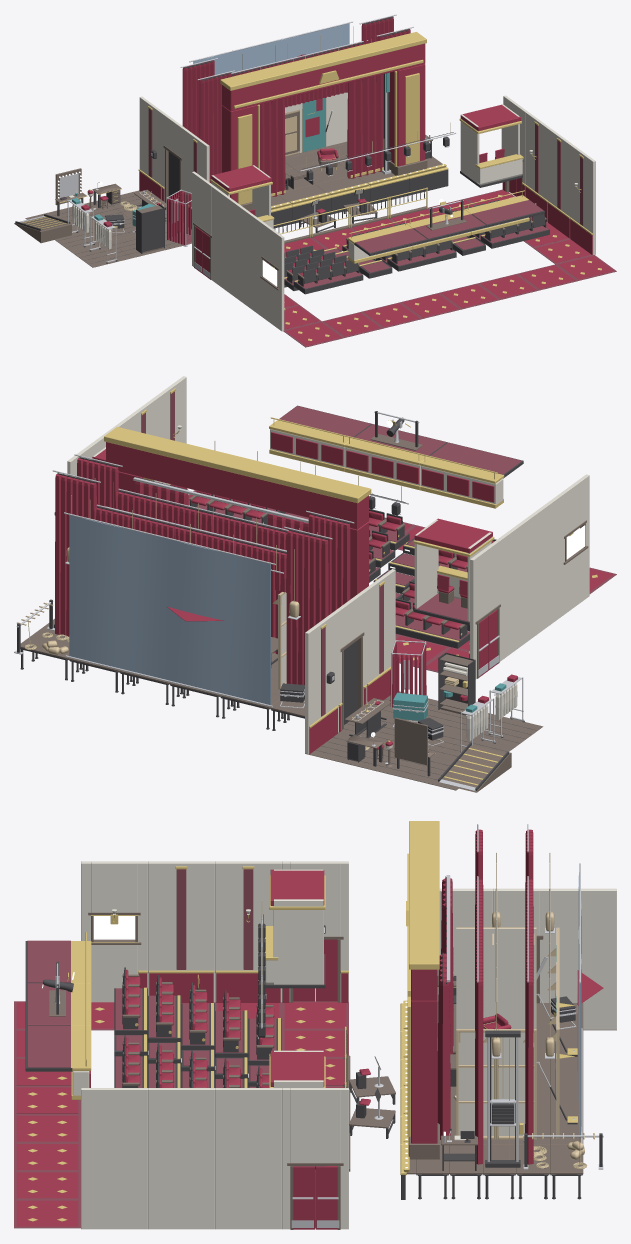
File: playhouse-stage.glb
The picture shows the model from 3 angles, top to bottom: view 1: azimuth 30°, elevation 25°; view 2: azimuth 150°, elevation 25°; view 3: azimuth 270°, elevation 25°; orthographic projection. The views are drawn at different scales.
Parts seen in each view (by area): view 1: 036-proscenium-arch-frame/0, 036-proscenium-arch-frame/1, 039-house-tabs-on-track-open/tab-right, 046-backdrop-cloth-on-batten/0, 146-box-seating-unit/2, 135-house-wall-module/0, 134-house-wall-module/0, 136-control-box-window-frame/0, 039-house-tabs-on-track-open/tab-left, 040-stage-leg-drape/0, 140-house-wall-module/0, 138-house-wall-module/0 (+50 smaller); view 2: 046-backdrop-cloth-on-batten/0, 036-proscenium-arch-frame/0, 036-proscenium-arch-frame/1, 043-stage-leg-drape/0, 135-house-wall-module/0, 134-house-wall-module/0, 042-stage-border-drape/0, 044-stage-leg-drape/0, 136-control-box-window-frame/0, 045-stage-border-drape/0, 153-house-wall-module/0, 133-exit-sign-and-door-module/0 (+45 smaller); view 3: 138-house-wall-module/0, 139-house-wall-module/0, 140-house-wall-module/0, 153-house-wall-module/0, 135-house-wall-module/0, 136-control-box-window-frame/0, 137-exit-sign-and-door-module/0, 036-proscenium-arch-frame/1, 134-house-wall-module/0, 036-proscenium-arch-frame/0, 145-box-seating-unit/2, 057-scenery-flat/1 (+62 smaller).
Boxes of the visible parts, x1,y1,x2,y2 form: 036-proscenium-arch-frame/0: (222,43,425,202); 036-proscenium-arch-frame/1: (220,32,426,204); 039-house-tabs-on-track-open/tab-right: (347,74,383,178); 046-backdrop-cloth-on-batten/0: (193,23,349,75); 146-box-seating-unit/2: (460,104,522,185); 135-house-wall-module/0: (236,204,261,314); 134-house-wall-module/0: (214,188,238,297); 136-control-box-window-frame/0: (259,221,284,331); 039-house-tabs-on-track-open/tab-left: (259,98,285,196); 040-stage-leg-drape/0: (199,72,231,183); 140-house-wall-module/0: (570,145,595,254); 138-house-wall-module/0: (526,112,550,221); 046-backdrop-cloth-on-batten/0: (69,515,270,705); 036-proscenium-arch-frame/0: (106,442,368,599); 036-proscenium-arch-frame/1: (104,426,371,503); 043-stage-leg-drape/0: (286,530,328,684); 135-house-wall-module/0: (528,495,560,638); 134-house-wall-module/0: (499,517,531,659); 042-stage-border-drape/0: (115,491,287,552); 044-stage-leg-drape/0: (55,474,96,636); 136-control-box-window-frame/0: (557,474,589,616); 045-stage-border-drape/0: (93,507,290,593); 153-house-wall-module/0: (305,611,337,754); 133-exit-sign-and-door-module/0: (470,538,502,679); 138-house-wall-module/0: (215,1088,281,1229); 139-house-wall-module/0: (148,1088,214,1229); 140-house-wall-module/0: (81,1088,147,1229); 153-house-wall-module/0: (550,888,616,1029); 135-house-wall-module/0: (148,861,214,1002); 136-control-box-window-frame/0: (81,861,147,1002); 137-exit-sign-and-door-module/0: (282,1088,348,1229); 036-proscenium-arch-frame/1: (406,821,439,1136); 134-house-wall-module/0: (215,861,281,1002); 036-proscenium-arch-frame/0: (411,969,437,1143); 145-box-seating-unit/2: (265,869,323,984); 057-scenery-flat/1: (496,928,536,1028).
Size of the model in its own units: 20.84 by 7.34 by 18.
